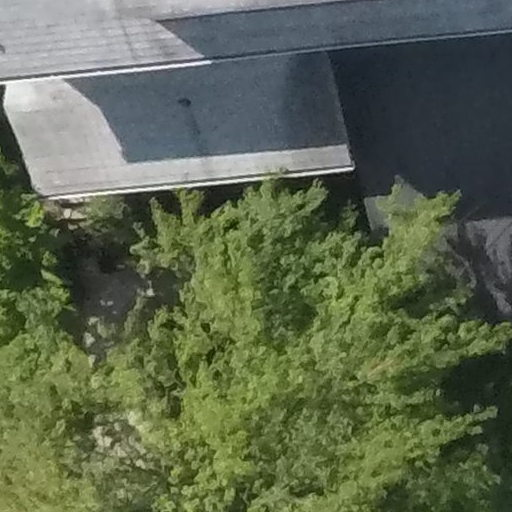gutter: (32, 157, 358, 204)
